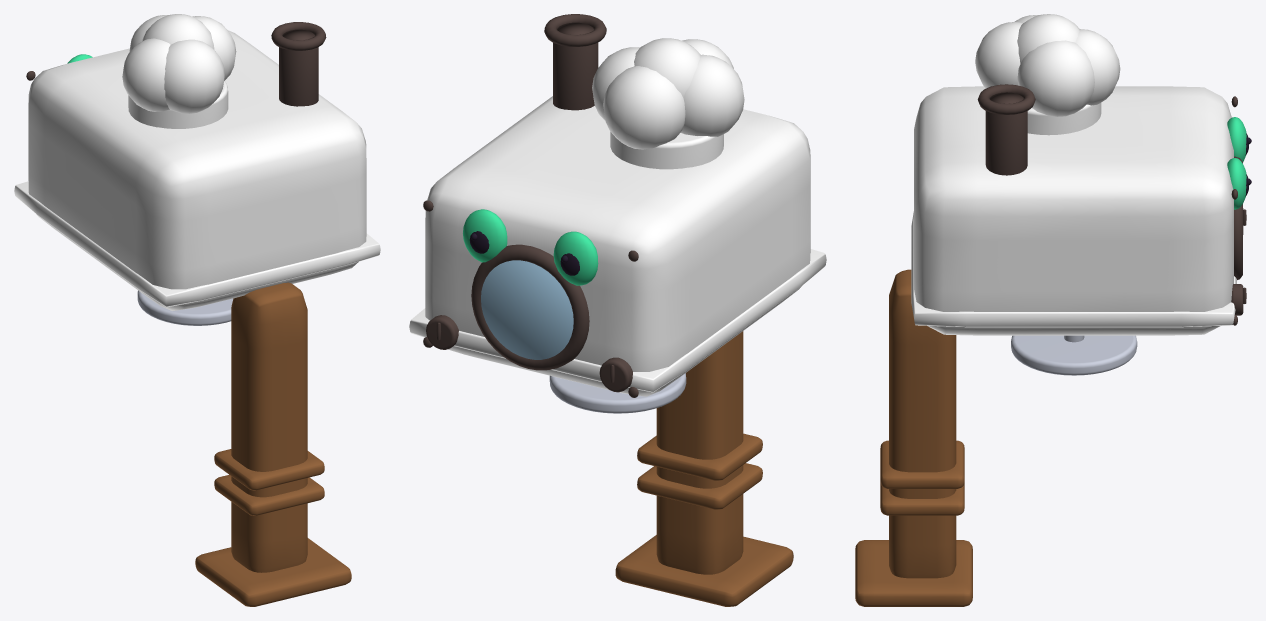
Rendered from CakePress.obj.
3 views of the same model, side by side, from view 1: azimuth 30°, elevation 25°; view 2: azimuth 150°, elevation 25°; view 3: azimuth 270°, elevation 25° (orthographic). The views are drawn at different scales.
Visible parts, largest first — view 1: Body, Frame, Hat, Stripe, Trim, Stamp; view 2: Body, Frame, Hat, Trim, Window, Stripe, Eyes, Stamp, Pupils; view 3: Body, Frame, Hat, Stripe, Trim, Stamp, Eyes.
Part boxes in pixels (x1,y1,x2,y2): Body: [28, 30, 366, 310]; Frame: [195, 282, 351, 606]; Hat: [122, 14, 236, 128]; Stripe: [14, 181, 380, 307]; Trim: [26, 22, 326, 106]; Stamp: [137, 290, 233, 325]; Body: [425, 96, 810, 396]; Frame: [615, 331, 793, 606]; Hat: [592, 38, 744, 169]; Trim: [423, 14, 638, 397]; Window: [481, 260, 573, 359]; Stripe: [409, 249, 826, 392]; Eyes: [463, 209, 598, 285]; Stamp: [549, 373, 686, 413]; Pupils: [469, 231, 579, 275]; Body: [914, 86, 1233, 335]; Frame: [855, 269, 972, 606]; Hat: [975, 14, 1120, 135]; Stripe: [911, 211, 1236, 327]; Trim: [977, 84, 1246, 325]; Stamp: [1011, 335, 1137, 375]; Eyes: [1227, 117, 1246, 209].
Bounding box in the file's own units: 6.34 × 14.4 × 9.42.
